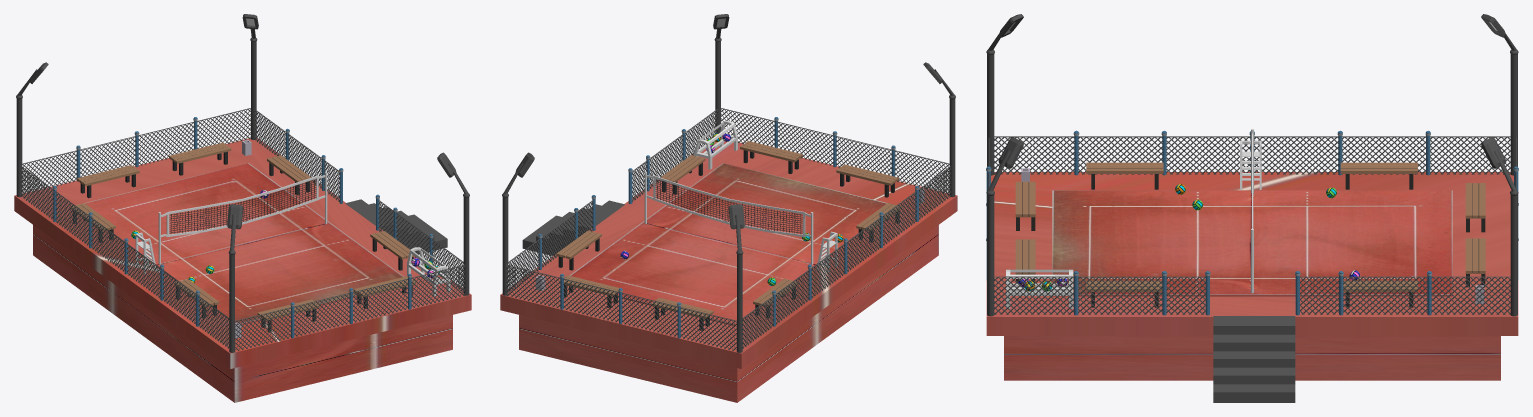
File: volleyball.fbx
3 views of the same model, side by side, from view 1: azimuth 30°, elevation 25°; view 2: azimuth 150°, elevation 25°; view 3: azimuth 270°, elevation 25° (orthographic). The views are drawn at different scales.
Parts seen in each view (by area): view 1: Cube, Plane.001, Plane.002, Plane.003, Plane, bok, Cylinder.006, Cube.016, bok.001, Cube.015, Cube.018, Cube.017 (+10 smaller); view 2: Cube, Plane.001, Plane.003, Plane, Plane.002, bok, Cylinder.006, Cube.018, Cube.017, bok.001, Cube.016, Cube.013 (+10 smaller); view 3: Cube, Plane.001, Plane, Cylinder.006, Cube.015, Cube.017, Cube.016, Cube.018, Cube.013, Cube.005, Cube.008, Cube.001 (+6 smaller).
Part boxes in pixels (bbox=[...]): Cube: bbox=[14, 138, 471, 402]; Plane.001: bbox=[21, 166, 229, 348]; Plane.002: bbox=[235, 264, 465, 351]; Plane.003: bbox=[22, 108, 250, 193]; Plane: bbox=[254, 109, 463, 292]; bok: bbox=[169, 179, 316, 233]; Cylinder.006: bbox=[345, 199, 447, 253]; Cube.016: bbox=[227, 204, 243, 352]; bok.001: bbox=[166, 175, 318, 237]; Cube.015: bbox=[437, 152, 469, 295]; Cube.018: bbox=[16, 62, 48, 197]; Cube.017: bbox=[242, 14, 258, 139]; Cube: bbox=[500, 141, 957, 402]; Plane.001: bbox=[742, 166, 950, 348]; Plane.003: bbox=[506, 264, 736, 351]; Plane: bbox=[508, 109, 717, 291]; Plane.002: bbox=[721, 108, 949, 192]; bok: bbox=[655, 179, 802, 233]; Cylinder.006: bbox=[522, 200, 624, 255]; Cube.018: bbox=[728, 204, 744, 352]; Cube.017: bbox=[502, 152, 534, 295]; bok.001: bbox=[653, 175, 805, 237]; Cube.016: bbox=[923, 62, 955, 197]; Cube.013: bbox=[694, 120, 737, 169]; Cube: bbox=[986, 172, 1518, 380]; Plane.001: bbox=[994, 136, 1510, 174]; Plane: bbox=[994, 276, 1510, 314]; Cylinder.006: bbox=[1213, 316, 1295, 402]; Cube.015: bbox=[986, 137, 1023, 316]; Cube.017: bbox=[1481, 137, 1518, 316]; Cube.016: bbox=[986, 14, 1023, 175]; Cube.018: bbox=[1481, 14, 1518, 175]; Cube.013: bbox=[1006, 269, 1073, 308]; Cube.005: bbox=[1340, 162, 1417, 189]; Cube.008: bbox=[1086, 162, 1163, 189]; Cube.001: bbox=[1015, 181, 1035, 230].
Size of the model in its own units: 1416 by 845 by 1717.
19 materials, 1 textured.
